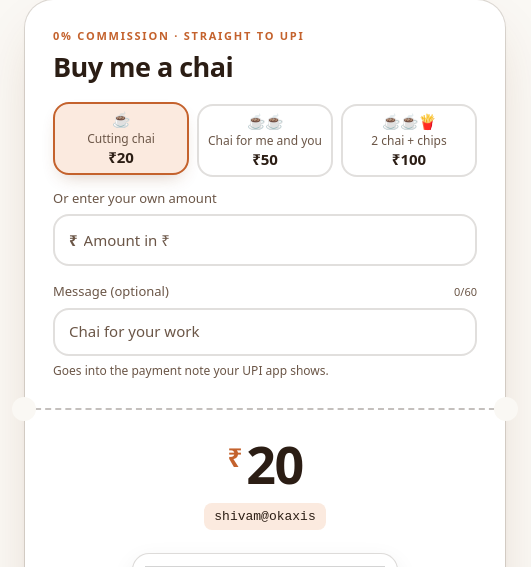
Scenario: PaymentCard — amount selection (P0.3) › prompts for an amount instead of showing a QR when the field is emptied
Type "5" into the field labelled "Or enter your own amount" at (272, 240), box [84,216,461,264]
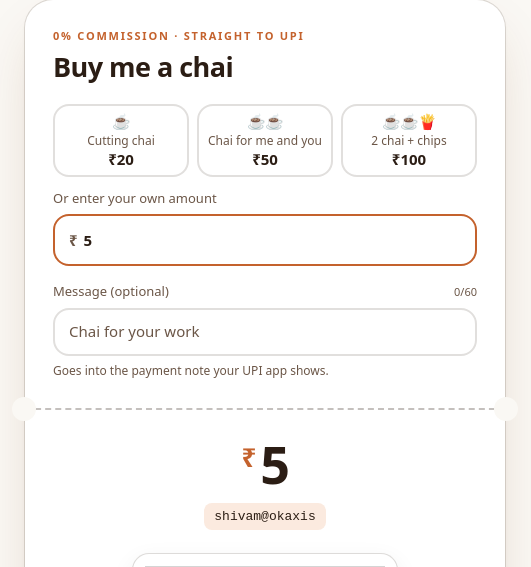
Clear the field labelled "Or enter your own amount" at (272, 240), box [84,216,461,264]
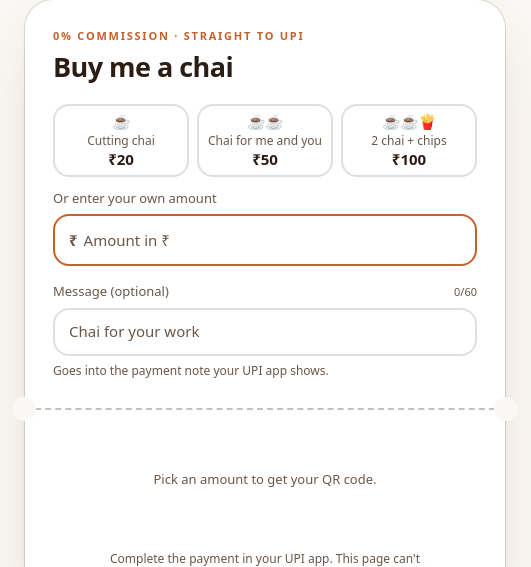
Expected: the text "Pick an amount to get your QR code." is shown, [154,470,377,488]
